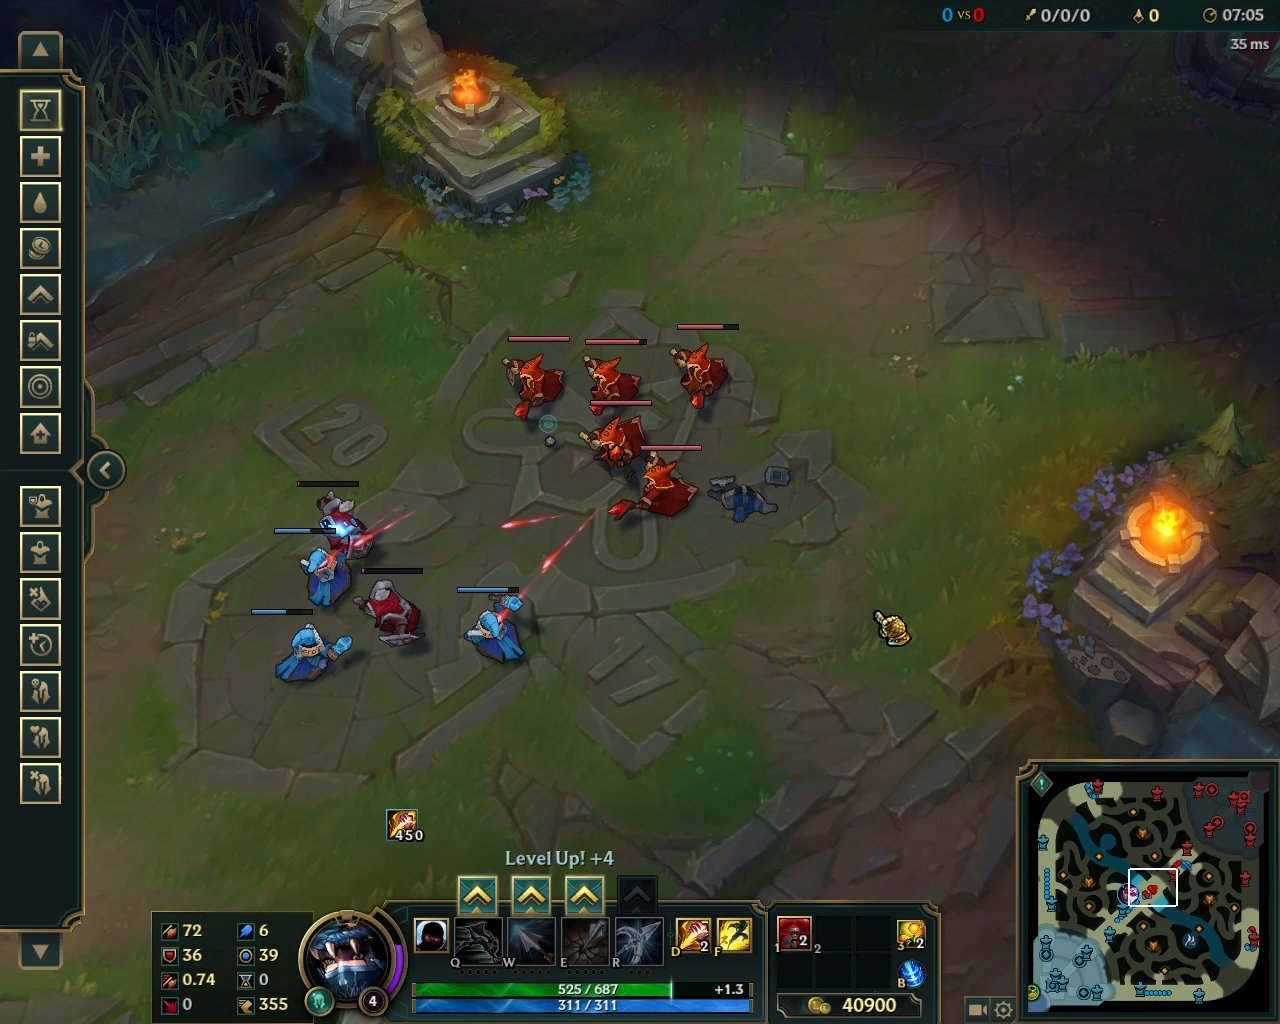EnemyMinion: (607, 444, 703, 525), (661, 323, 741, 415), (350, 566, 425, 655), (297, 479, 376, 562), (501, 336, 569, 423), (575, 401, 652, 474), (580, 338, 646, 419)
